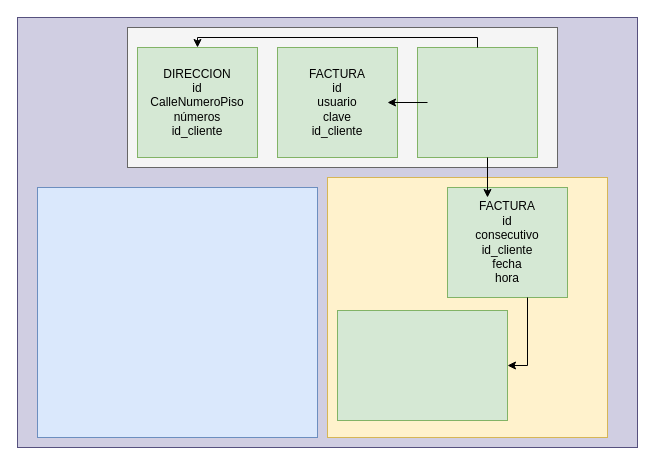
This 655x465 diagram has some shape labels left out. The shapes that lost their labels are listed below. From the top down, each one's centre as x and y in pixels, then its label:
At [477,102]: "FACTURA id nombre documento correo celular estado".
At [422,365]: "PRODUCTOS_FACTURA id id_producto id_factura cantidad precio_initario".
